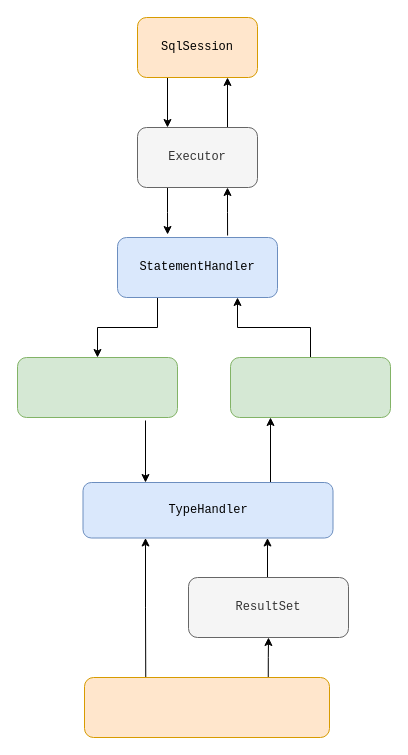
This 408x755 diagram has some shape labels left out. The centre of each missing label's shape, as x and y in pixels:
"ParameterHandler" belongs at pixel 97 387.
"ResultSetHandler" belongs at pixel 310 387.
"Statement" belongs at pixel 207 707.
